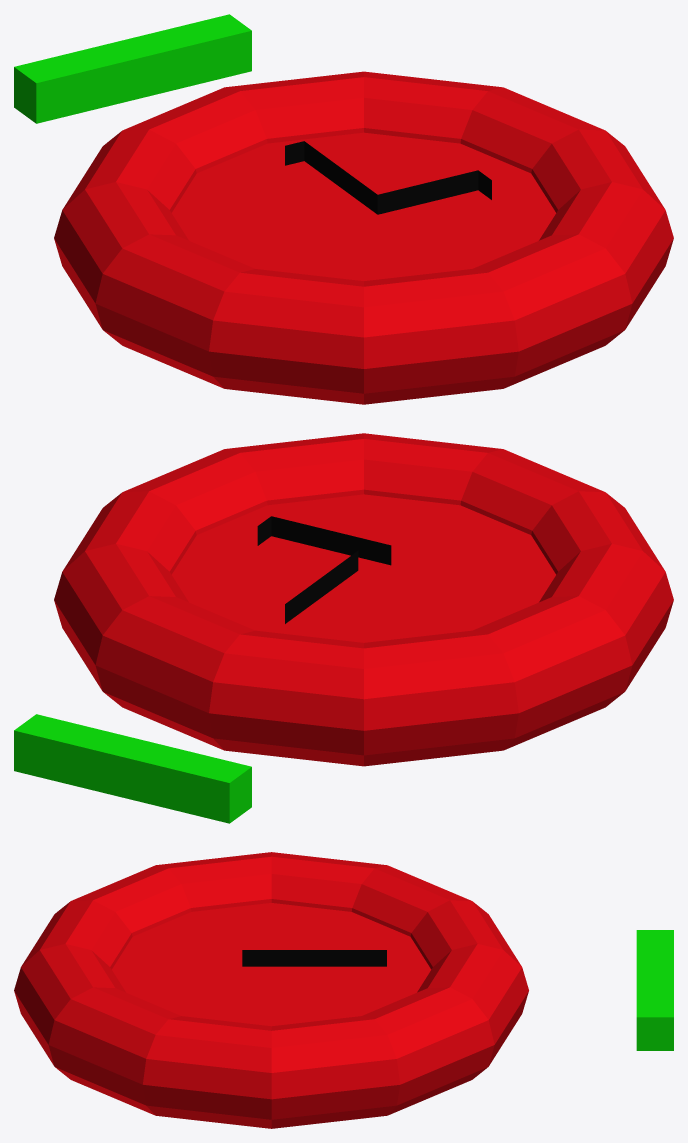
The model's file is ClockMinus.fbx.
3 renders of one model, top to bottom at view 1: azimuth 30°, elevation 25°; view 2: azimuth 150°, elevation 25°; view 3: azimuth 270°, elevation 25°, orthographic. The views are drawn at different scales.
Visible parts, largest first — view 1: ClockMinus; view 2: ClockMinus; view 3: ClockMinus.
Boxes of the visible parts, bbox=[...] form: ClockMinus: bbox=[14, 14, 673, 404]; ClockMinus: bbox=[14, 433, 673, 823]; ClockMinus: bbox=[14, 852, 673, 1128].
Bounding box in the file's own units: 4.53 × 0.906 × 5.8.
